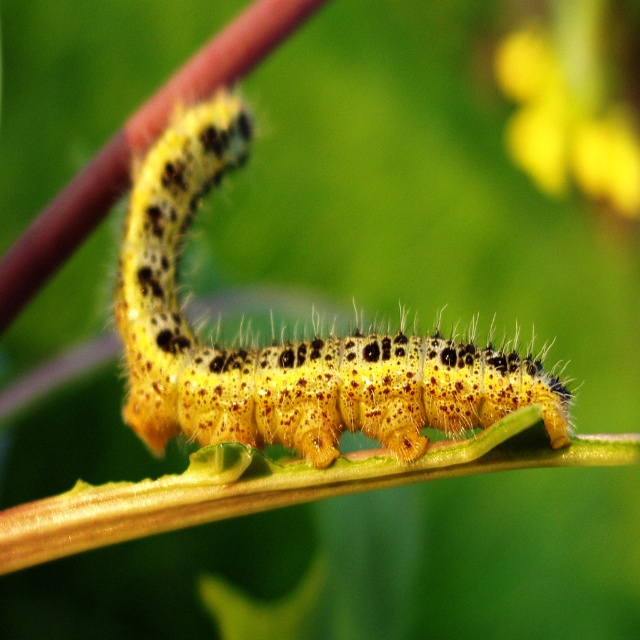Caterpillar: (102, 102, 570, 485)
